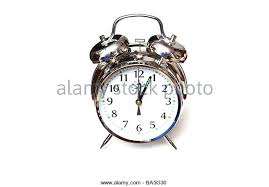alarm_clock: (84, 6, 190, 148), (90, 6, 190, 148), (90, 13, 190, 148)
